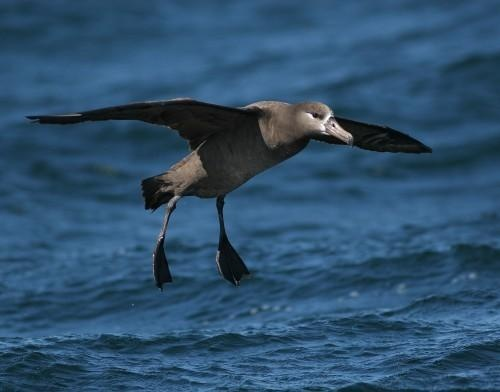bird: (28, 96, 433, 283)
